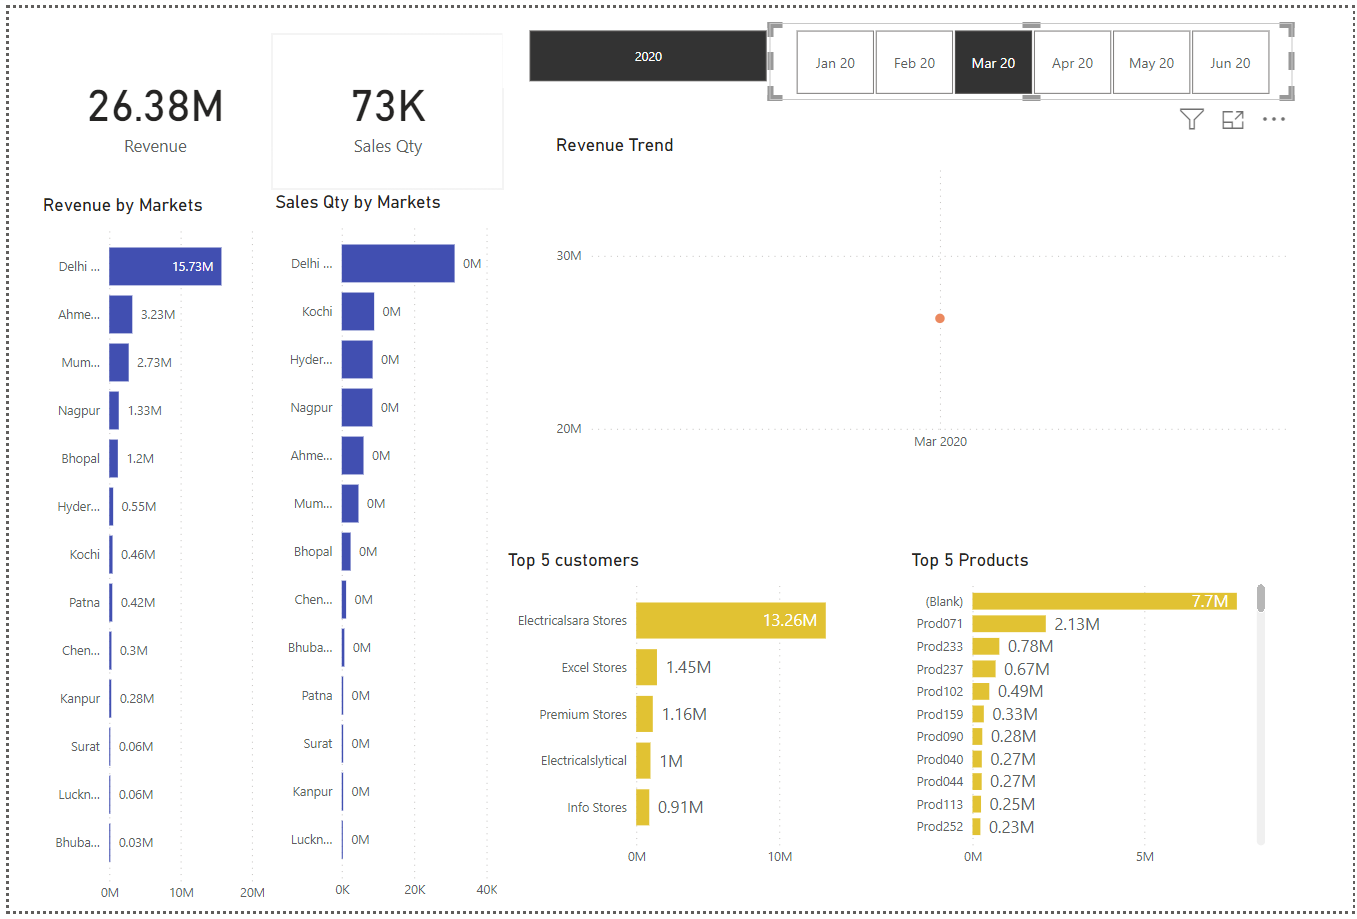

The page's visual inventory and layout, read from the dashboard file:
{"tool":"powerbi","page":{"name":"Page 1","canvas":[1280,860],"ordinal":0},"visuals":[{"type":"card","fields":{"Values":["BaseMeasures.Revenue"]},"box":[28.8,24.2,221.1,148.4],"z":0},{"type":"card","fields":{"Values":["BaseMeasures.Sales Qty"]},"box":[249.8,24.2,221.1,148.4],"z":1000},{"type":"barChart","title":"Revenue by Markets","fields":{"Y":["BaseMeasures.Revenue"],"Category":["sales markets.markets_name"]},"box":[27.6,176.7,220.9,683.3],"z":2000},{"type":"barChart","title":"Sales Qty by Markets","fields":{"Y":["BaseMeasures.Sales Qty"],"Category":["sales markets.markets_name"]},"box":[248.5,173.9,220.9,683.3],"z":3000},{"type":"slicer","fields":{"Values":["sales date.year"]},"box":[469.4,13.6,275.6,62.1],"z":4000},{"type":"slicer","fields":{"Values":["sales date.cy_date"]},"box":[723.8,13.6,499.7,74.2],"z":5000},{"type":"barChart","title":"Top 5 customers","fields":{"Y":["BaseMeasures.Revenue"],"Category":["sales customers.custmer_name"]},"box":[469.4,516.3,348.3,310.4],"z":5001},{"type":"barChart","title":"Top 5 Products","fields":{"Y":["BaseMeasures.Revenue"],"Category":["sales products.product_code"]},"box":[854,516.3,346.8,310.4],"z":5002},{"type":"lineChart","title":"Revenue Trend","fields":{"Y":["BaseMeasures.Revenue"],"Category":["sales date.cy_date.Variation.Date Hierarchy.Year","sales date.cy_date.Variation.Date Hierarchy.Quarter","sales date.cy_date.Variation.Date Hierarchy.Month","sales date.cy_date.Variation.Date Hierarchy.Day"]},"box":[516.3,119.6,707.1,310.4],"z":5003}]}

Visuals, with their boxes in screenshot pixels (x1, y1, x2, y2), scaled from the page's 1280x860 canvas onto the 1357x919 screenshot:
card - BaseMeasures.Revenue: <bbox>31, 26, 265, 184</bbox>
card - BaseMeasures.Sales Qty: <bbox>265, 26, 499, 184</bbox>
"Revenue by Markets" barChart: <bbox>29, 189, 263, 918</bbox>
"Sales Qty by Markets" barChart: <bbox>263, 186, 498, 916</bbox>
slicer - sales date.year: <bbox>498, 15, 790, 81</bbox>
slicer - sales date.cy_date: <bbox>767, 15, 1297, 94</bbox>
"Top 5 customers" barChart: <bbox>498, 552, 867, 883</bbox>
"Top 5 Products" barChart: <bbox>905, 552, 1273, 883</bbox>
"Revenue Trend" lineChart: <bbox>547, 128, 1297, 460</bbox>
